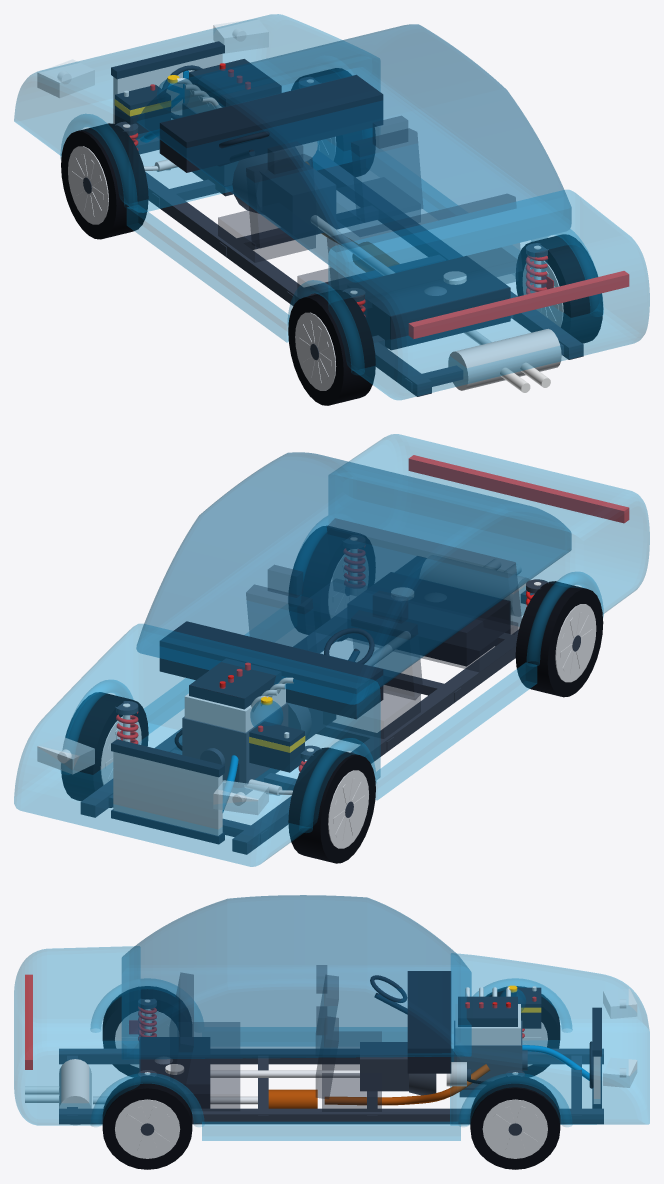
Rendered from combustion_xray.glb.
The picture shows the model from 3 angles, top to bottom: view 1: azimuth 30°, elevation 25°; view 2: azimuth 150°, elevation 25°; view 3: azimuth 270°, elevation 25°; orthographic projection. The views are drawn at different scales.
Parts seen in each view (by area): view 1: car_body_sedan_xray, car_interior_visible, wheels_and_tires, chassis_structure, comb_fuel_system, comb_transmission, comb_exhaust, comb_engine, comb_radiator, comb_battery, comb_suspension; view 2: car_body_sedan_xray, car_interior_visible, wheels_and_tires, chassis_structure, comb_engine, comb_radiator, comb_fuel_system, comb_exhaust, comb_battery, comb_suspension, comb_transmission; view 3: car_body_sedan_xray, wheels_and_tires, car_interior_visible, chassis_structure, comb_engine, comb_exhaust, comb_transmission, comb_fuel_system, comb_radiator, comb_battery, comb_suspension, comb_alternator (+1 smaller).
Part boxes in pixels (left/top/right/bottom): car_body_sedan_xray: left=14, top=14, right=649, bottom=399; car_interior_visible: left=159, top=75, right=522, bottom=317; wheels_and_tires: left=61, top=68, right=602, bottom=405; chassis_structure: left=136, top=136, right=583, bottom=396; comb_fuel_system: left=348, top=256, right=510, bottom=350; comb_transmission: left=232, top=147, right=446, bottom=295; comb_exhaust: left=306, top=161, right=561, bottom=392; comb_engine: left=157, top=59, right=281, bottom=196; comb_radiator: left=111, top=41, right=224, bottom=139; comb_battery: left=114, top=84, right=170, bottom=134; comb_suspension: left=115, top=77, right=548, bottom=316; car_body_sedan_xray: left=14, top=434, right=649, bottom=866; car_interior_visible: left=159, top=518, right=521, bottom=738; wheels_and_tires: left=61, top=526, right=603, bottom=863; chassis_structure: left=80, top=556, right=533, bottom=854; comb_engine: left=182, top=658, right=293, bottom=794; comb_radiator: left=111, top=739, right=224, bottom=844; comb_fuel_system: left=347, top=572, right=510, bottom=666; comb_exhaust: left=373, top=555, right=529, bottom=653; comb_battery: left=249, top=721, right=305, bottom=772; comb_suspension: left=115, top=535, right=548, bottom=774; comb_transmission: left=288, top=592, right=446, bottom=741; car_body_sedan_xray: left=14, top=895, right=649, bottom=1140; wheels_and_tires: left=102, top=986, right=560, bottom=1169; car_interior_visible: left=170, top=965, right=451, bottom=1111; chassis_structure: left=59, top=1048, right=603, bottom=1124; comb_engine: left=454, top=985, right=527, bottom=1097; comb_exhaust: left=25, top=1059, right=490, bottom=1125; comb_transmission: left=154, top=1042, right=436, bottom=1095; comb_fuel_system: left=139, top=1037, right=210, bottom=1108; comb_radiator: left=589, top=1007, right=601, bottom=1108; comb_battery: left=517, top=986, right=541, bottom=1028; comb_suspension: left=138, top=999, right=524, bottom=1076; comb_alternator: left=446, top=1062, right=470, bottom=1086.
Size of the model in its own units: 1.8 by 1.47 by 4.67.
